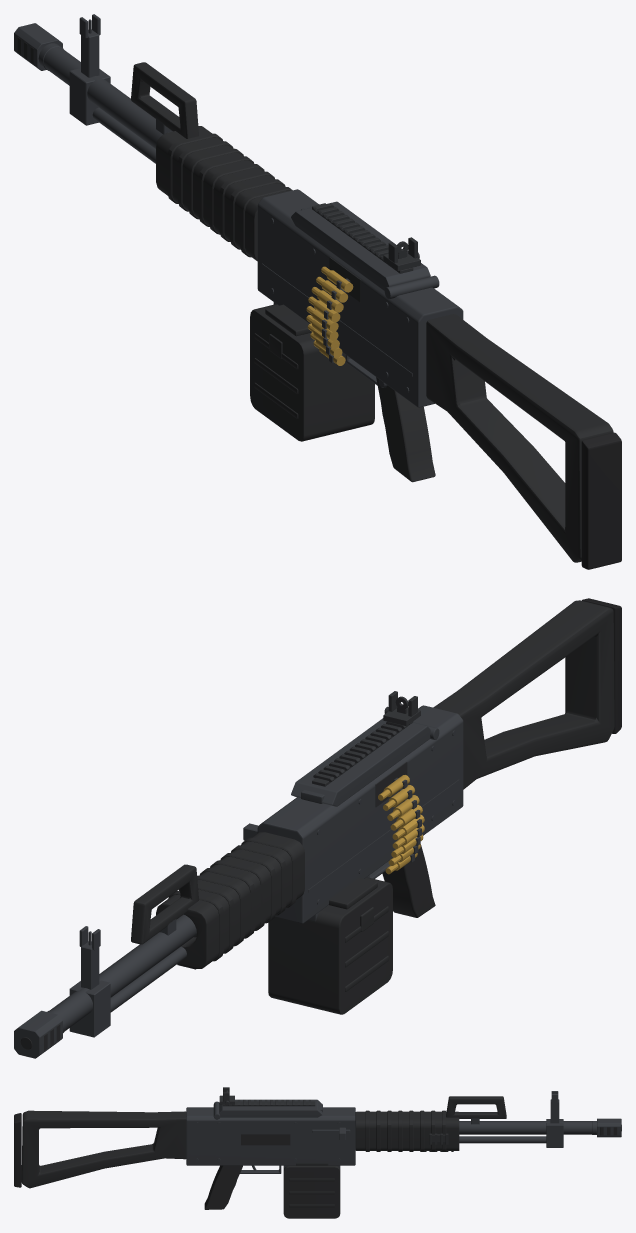
File: wpn_rampart_lmg.glb
3 renders of one model, top to bottom at view 1: azimuth 30°, elevation 25°; view 2: azimuth 150°, elevation 25°; view 3: azimuth 270°, elevation 25°, orthographic. The views are drawn at different scales.
Parts seen in each view (by area): view 1: Stock, Receiver, AmmoBox, Barrel, Handguard, ButtPad, HandguardRibs, FeedCover, Grip, BarrelHandle, AmmoBoxBelt, TopRail (+3 smaller); view 2: Stock, Receiver, AmmoBox, Barrel, Handguard, HandguardRibs, FeedCover, BarrelHandle, AmmoBoxBelt, Grip, MuzzleBrake, TopRail (+3 smaller); view 3: Receiver, Stock, AmmoBox, Barrel, Handguard, HandguardRibs, FeedCover, ReceiverDetails, Grip, BarrelHandle, TopRail, ButtPad (+4 smaller).
Part boxes in pixels (<box>): Stock: <box>426,314,613,562</box>; Receiver: <box>257,189,463,407</box>; AmmoBox: <box>250,304,374,441</box>; Barrel: <box>43,14,172,163</box>; Handguard: <box>156,126,289,261</box>; ButtPad: <box>581,432,621,569</box>; HandguardRibs: <box>167,133,292,257</box>; FeedCover: <box>291,201,439,299</box>; Grip: <box>376,377,435,482</box>; BarrelHandle: <box>131,62,198,138</box>; AmmoBoxBelt: <box>306,266,353,365</box>; TopRail: <box>312,203,413,273</box>; Stock: <box>433,600,614,789</box>; Receiver: <box>257,705,463,923</box>; AmmoBox: <box>268,877,392,1014</box>; Barrel: <box>50,914,196,1037</box>; Handguard: <box>156,832,304,968</box>; HandguardRibs: <box>168,837,296,961</box>; FeedCover: <box>291,718,439,806</box>; BarrelHandle: <box>131,864,198,944</box>; AmmoBoxBelt: <box>378,775,424,874</box>; Grip: <box>382,844,435,917</box>; MuzzleBrake: <box>14,1010,66,1058</box>; TopRail: <box>312,721,413,786</box>; Receiver: <box>186,1107,355,1173</box>; Stock: <box>21,1110,186,1188</box>; AmmoBox: <box>283,1163,340,1218</box>; Barrel: <box>459,1091,591,1147</box>; Handguard: <box>355,1111,459,1150</box>; HandguardRibs: <box>365,1110,446,1151</box>; FeedCover: <box>213,1099,322,1119</box>; ReceiverDetails: <box>192,1122,350,1161</box>; Grip: <box>204,1165,242,1209</box>; BarrelHandle: <box>446,1096,506,1118</box>; TopRail: <box>222,1099,315,1106</box>; ButtPad: <box>14,1113,21,1187</box>.
Bounding box in the file's own units: 0.1054 × 0.2462 × 1.11.
